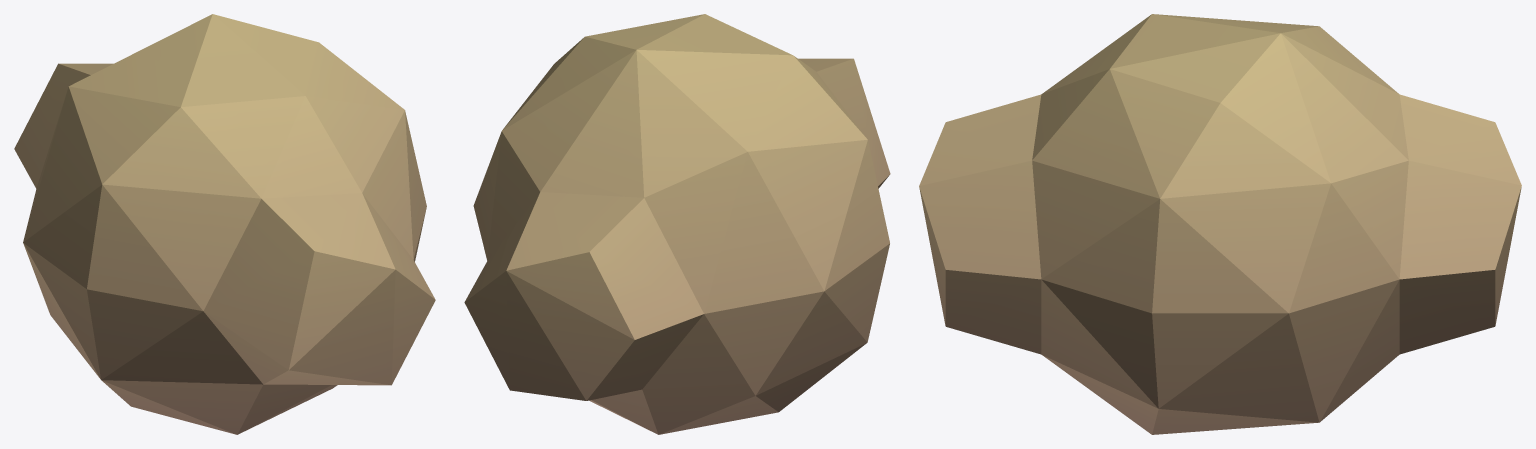
File: VeladoRoca.fbx
3 views of the same model, side by side, from view 1: azimuth 30°, elevation 25°; view 2: azimuth 150°, elevation 25°; view 3: azimuth 270°, elevation 25° (orthographic). The views are drawn at different scales.
Parts seen in each view (by area): view 1: Icosphere.006; view 2: Icosphere.006; view 3: Icosphere.006.
Boxes of the visible parts, left/top/right/bottom form: Icosphere.006: left=14, top=14, right=435, bottom=434; Icosphere.006: left=464, top=14, right=890, bottom=434; Icosphere.006: left=919, top=14, right=1521, bottom=434.
Size of the model in its own units: 190 by 199 by 272.
